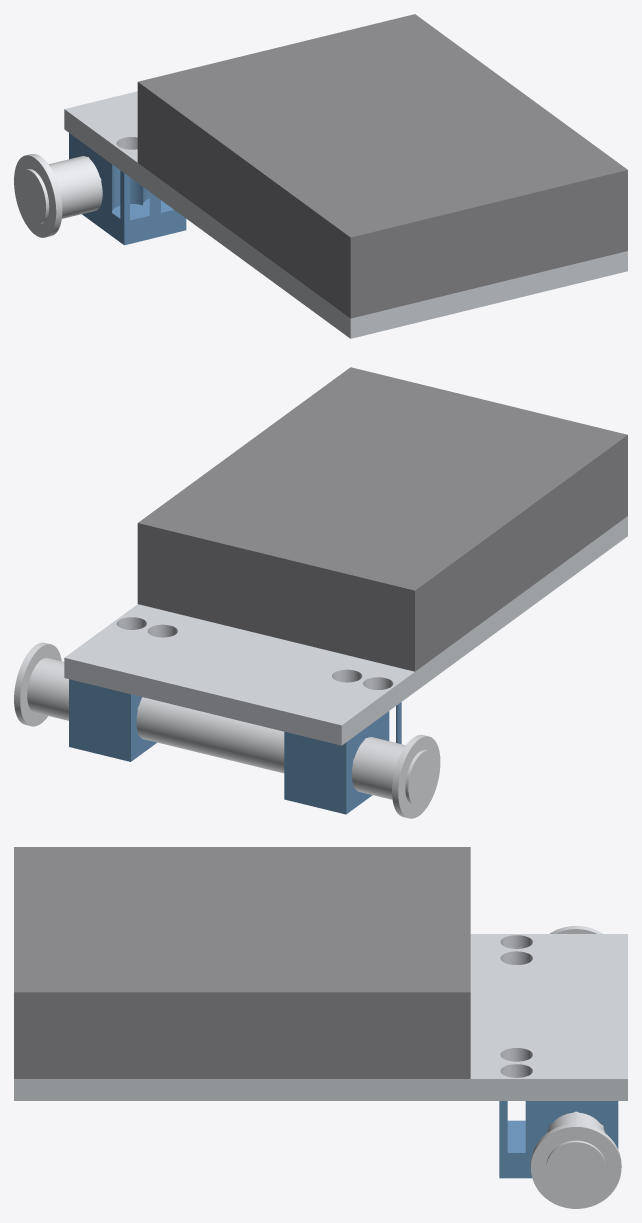
3 renders of one model, top to bottom at view 1: azimuth 30°, elevation 25°; view 2: azimuth 150°, elevation 25°; view 3: azimuth 270°, elevation 25°, orthographic. The views are drawn at different scales.
Parts seen in each view (by area): view 1: part_0, part_1, part_3, part_4; view 2: part_0, part_1, part_3, part_4; view 3: part_0, part_1, part_3, part_4.
Boxes of the visible parts, x1=… form: part_0: x1=137, y1=14, x2=627, y2=318; part_1: x1=64, y1=91, x2=627, y2=338; part_3: x1=14, y1=154, x2=102, y2=237; part_4: x1=69, y1=133, x2=186, y2=245; part_0: x1=137, y1=367, x2=627, y2=671; part_1: x1=64, y1=516, x2=627, y2=745; part_3: x1=14, y1=642, x2=440, y2=818; part_4: x1=69, y1=679, x2=401, y2=814; part_0: x1=14, y1=847, x2=470, y2=1078; part_1: x1=14, y1=934, x2=627, y2=1100; part_3: x1=531, y1=925, x2=621, y2=1208; part_4: x1=499, y1=1101, x2=618, y2=1178.
Bounding box in the file's own units: 0.064 × 0.0276 × 0.0813.
